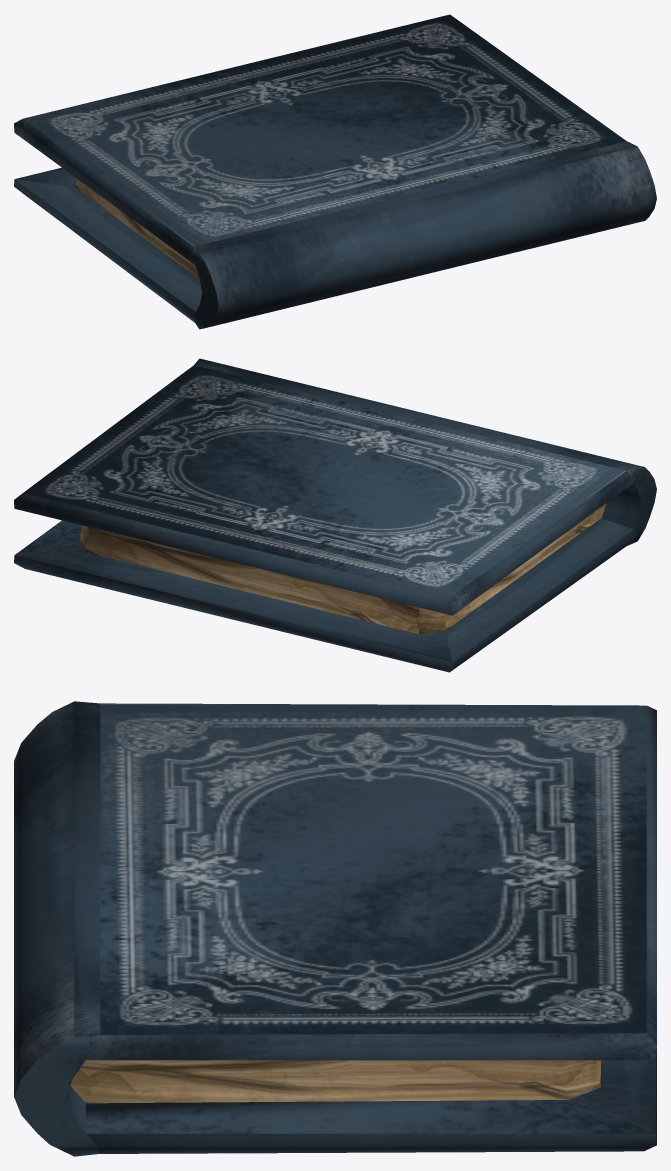
The model's file is Book_Simple_2.fbx.
3 views of the same model, one above another, from view 1: azimuth 30°, elevation 25°; view 2: azimuth 150°, elevation 25°; view 3: azimuth 270°, elevation 25° (orthographic). The views are drawn at different scales.
Visible parts, largest first — view 1: BookSimple; view 2: BookSimple; view 3: BookSimple.
Boxes of the visible parts, x1=… form: BookSimple: x1=14, y1=14, x2=656, y2=329; BookSimple: x1=14, y1=358, x2=656, y2=672; BookSimple: x1=14, y1=701, x2=656, y2=1156.
Size of the model in its own units: 33.11 by 5.49 by 26.79.
Materials: 1 (1 with a texture image).
